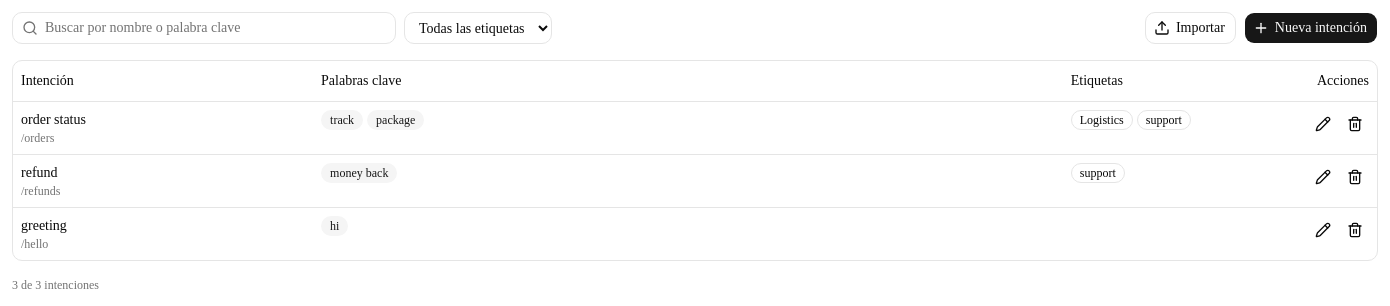
Test case: IntentsTable › filters rows by intent name or keyword
This screenshot has width=1390, height=306.
Type "money" into the search field named "buscar intenciones" at (204, 28), box x1=12 y1=12 x2=396 y2=44
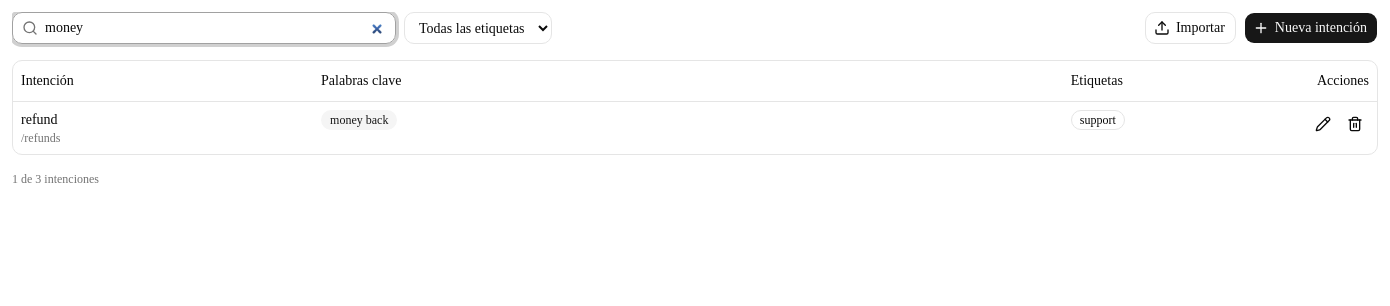
Expected: the text "refund" is shown, x1=21 y1=112 x2=58 y2=126
Expected: the text "order status" is gone
